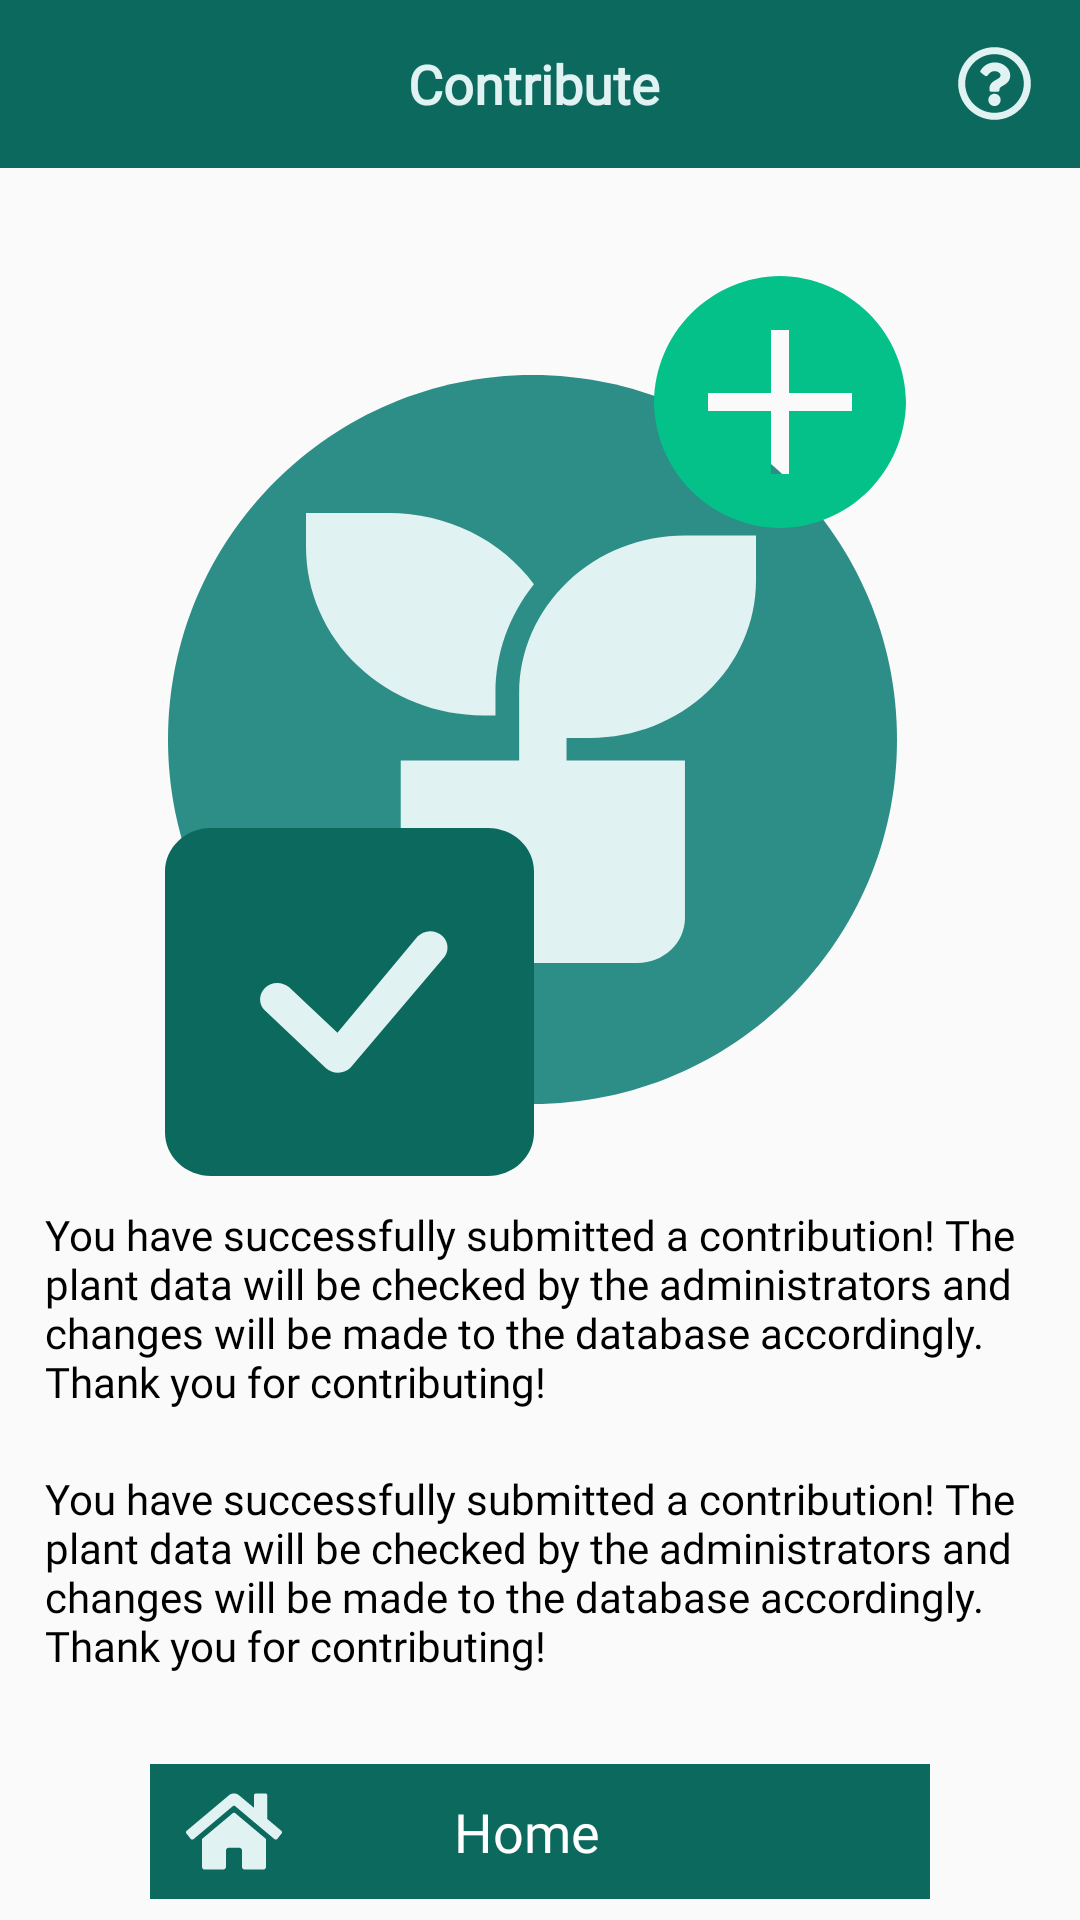

Named icons in this screenshot (1080*1920) and their bounding boxes, {"x1": x1, "y1": y1, "x2": x2, "y2": y2}:
home: {"x1": 186, "y1": 1793, "x2": 282, "y2": 1870}
question mark: {"x1": 958, "y1": 47, "x2": 1031, "y2": 120}
